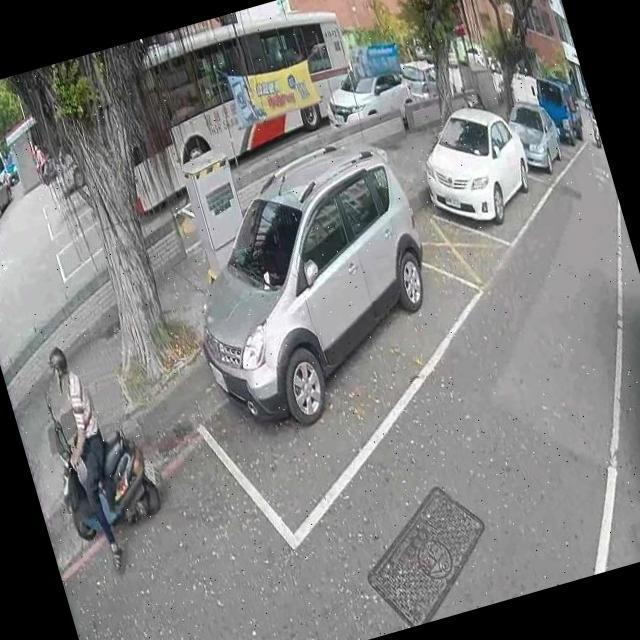person: (27, 341, 144, 584), (30, 140, 48, 173), (587, 104, 599, 132)
